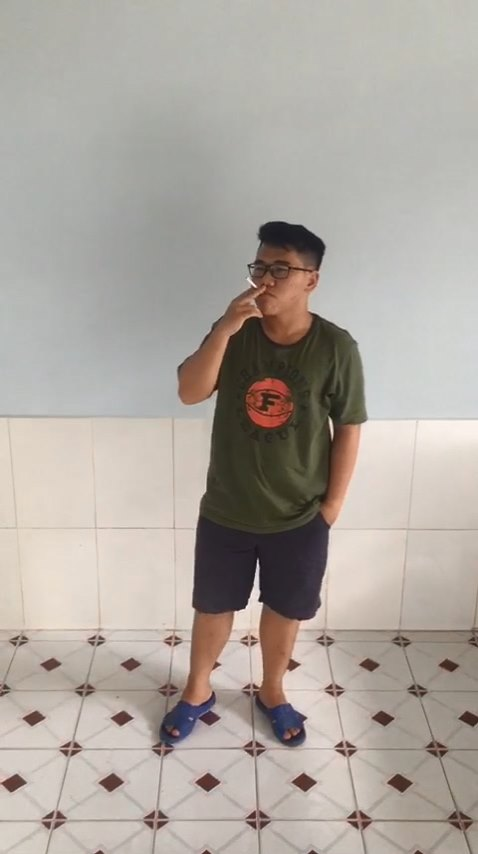cigarette: (243, 275, 263, 290)
person: (136, 187, 392, 775)
